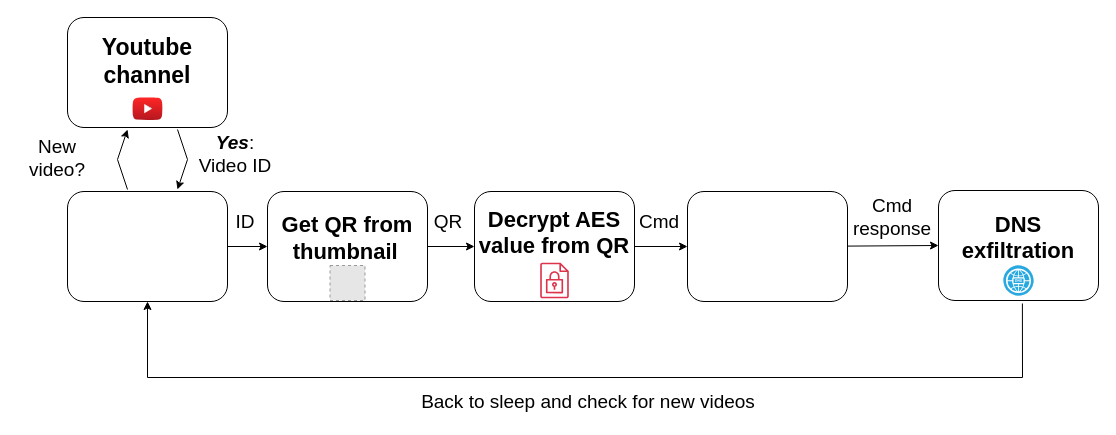
The diagram is 1116 pixels wide and 435 high, and some of its shapes have lost their labels. Grey dashed boxes stand in for pictures. The shapes that lost their labels are listed below. From the top down, each one's centre as x and y in pixels, then its label:
(x=147, y=246): Listener
(x=767, y=246): Execute command
